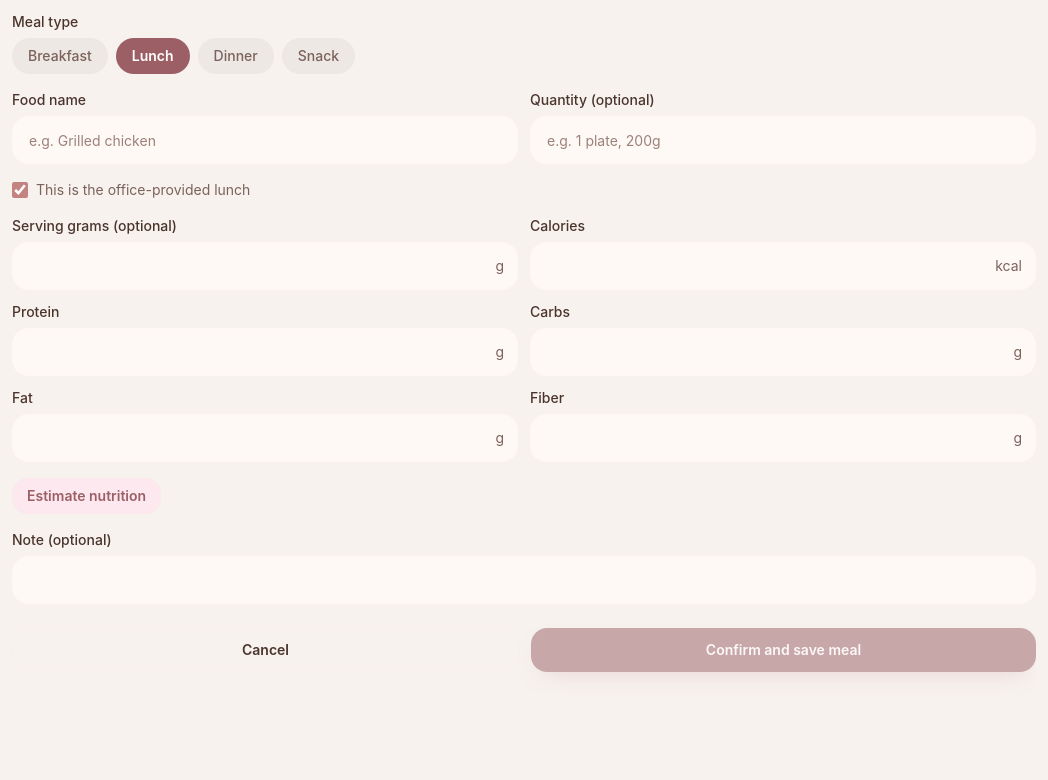
it: MealEntryForm › shows Estimated with OpenRouter Free for a reviewed estimate
Type "Soto" into the field labelled "Food name" at (265,140), box [12,116,518,164]
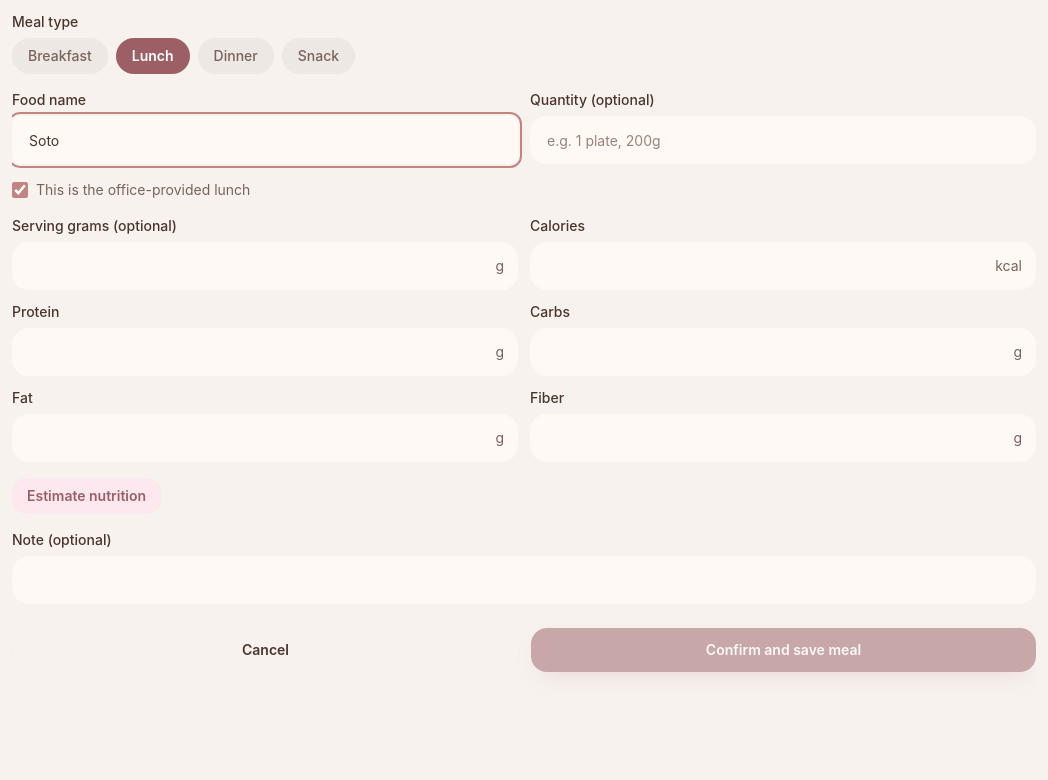
Click the button "Estimate nutrition" at (87,496), box [12,478,161,514]
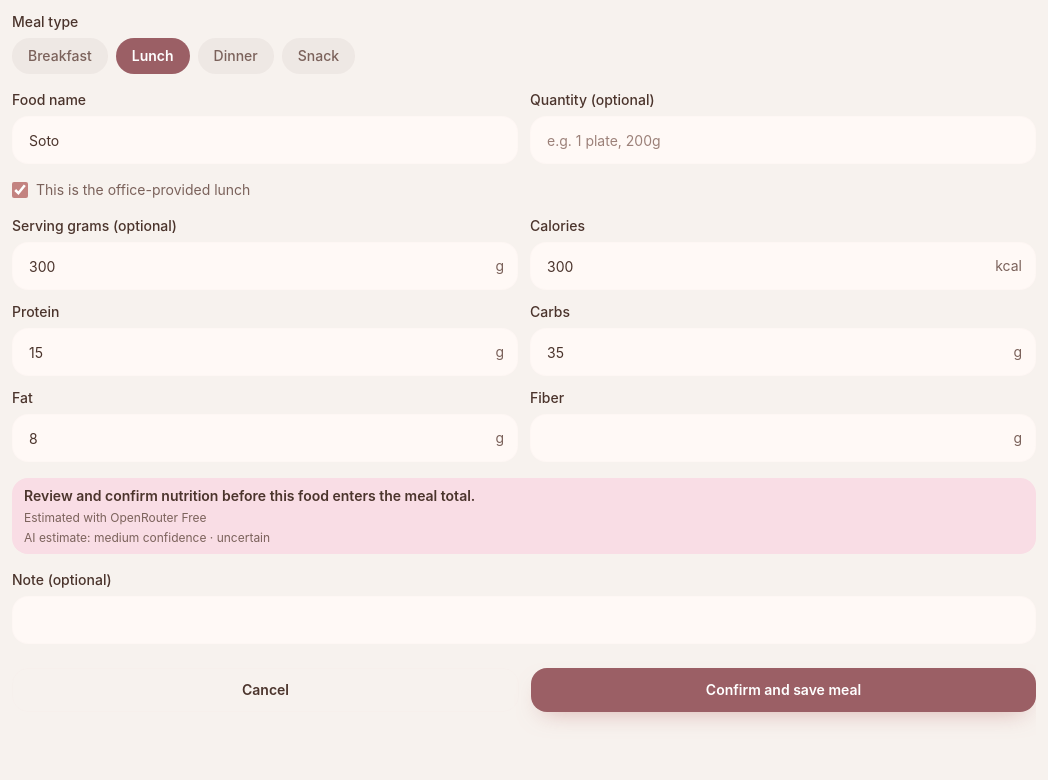
Result: the text "Estimated with OpenRouter Free" is shown at [24,510,206,525]
